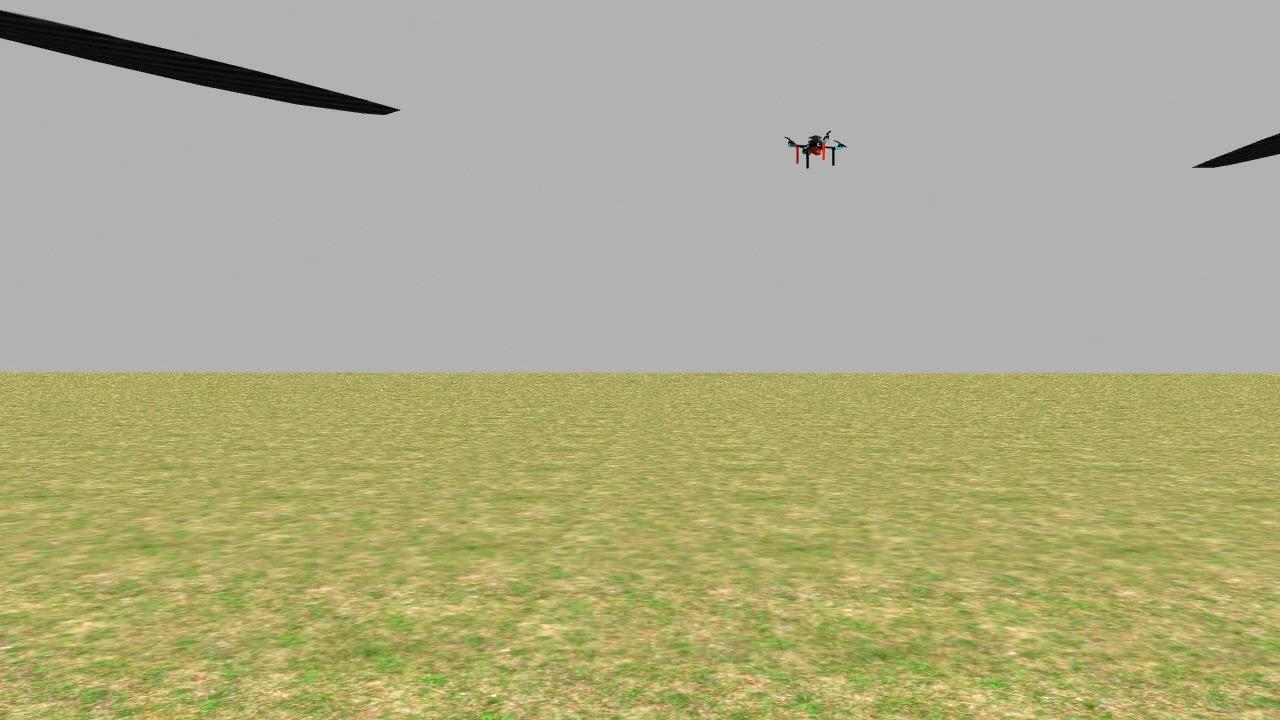UAV: (779, 124, 855, 184)
